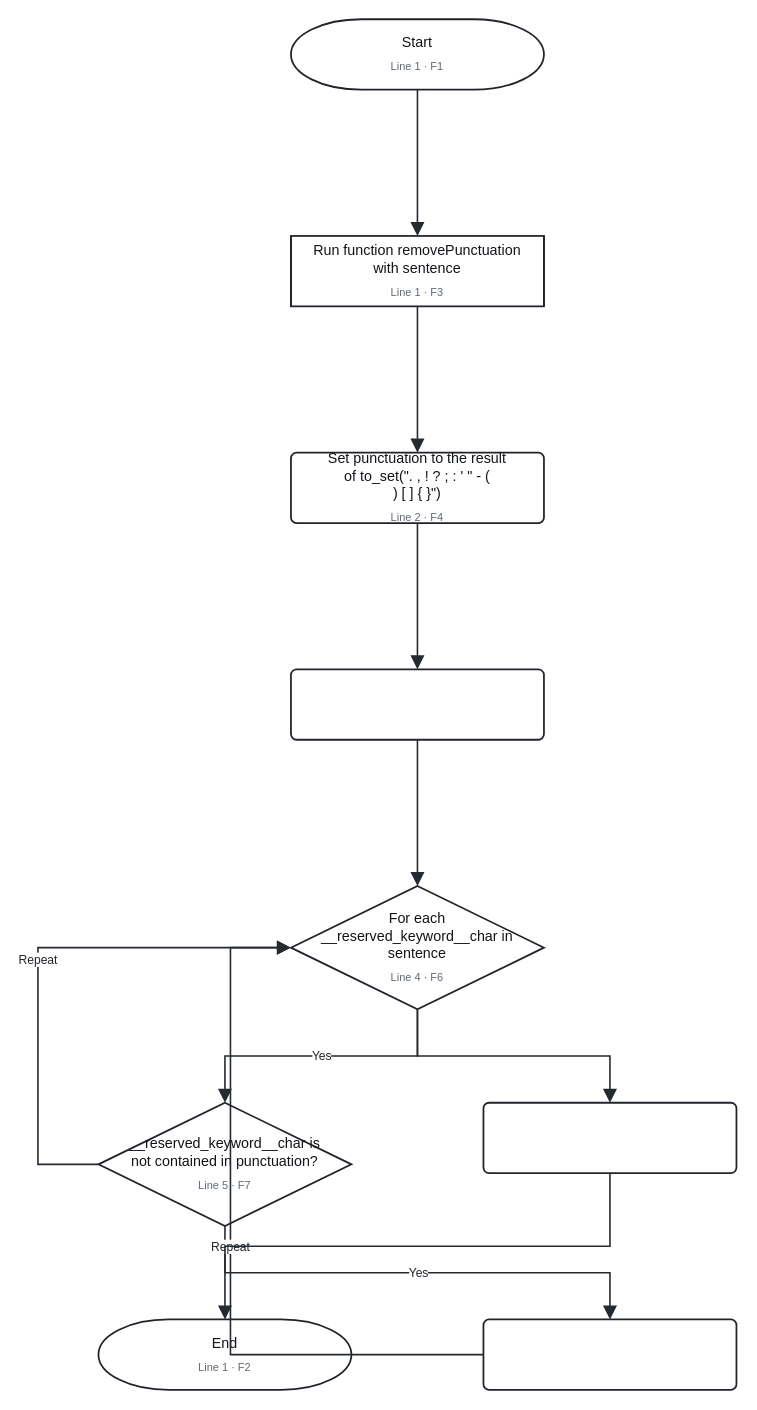
Some shapes in this 757 by 1410 pixel diagram are drawn without their labels. The centre of each missing label's shape, as x and y in pixels:
Return result Line 9 · F9: pixel 609 1137
Set result to an empty string Line 3 · F5: pixel 417 704
Set result to result plus __reserved_keyword__char Line 6 · F8: pixel 609 1354
